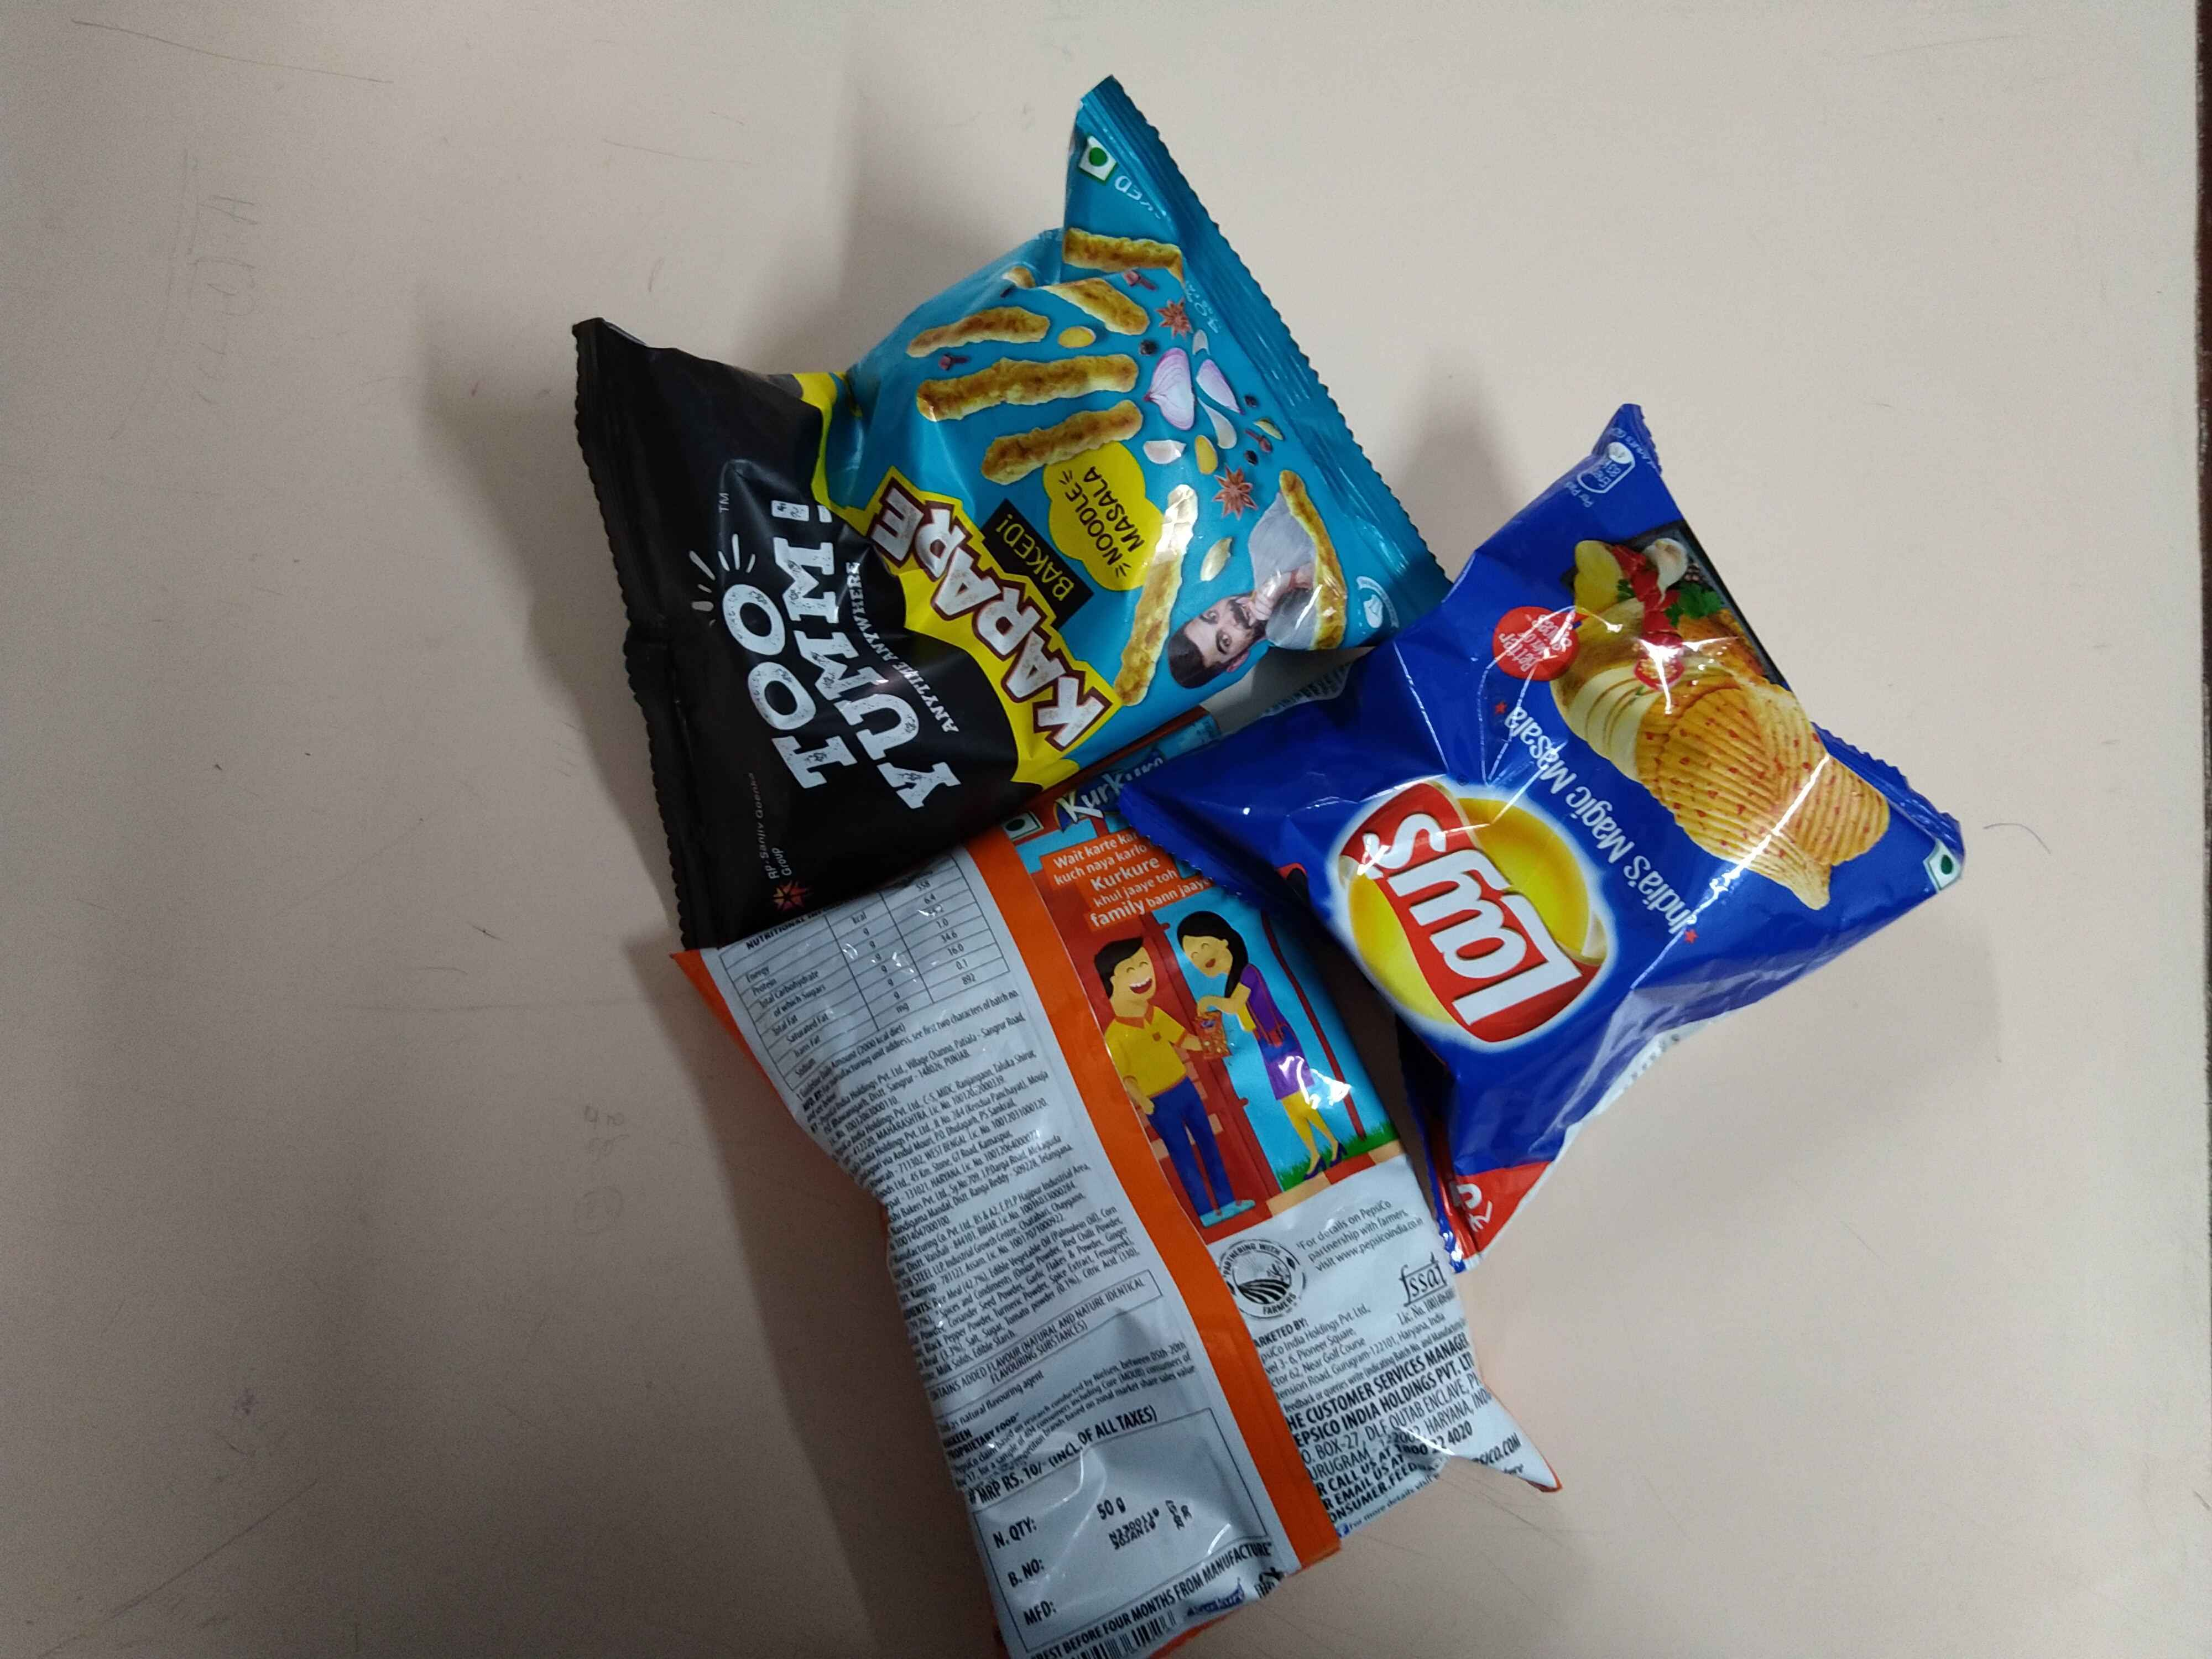Lays: (1332, 775, 1632, 1037)
kurkure: (1040, 749, 1183, 840)
tooyumm: (693, 519, 960, 817)
